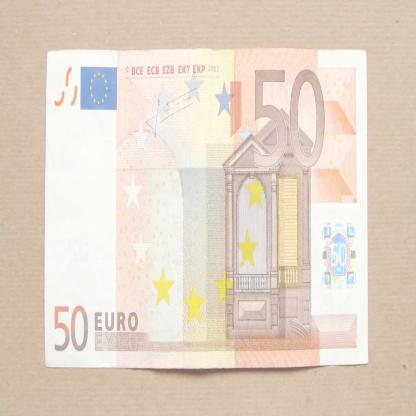euro_banknote: (46, 50, 369, 370)
